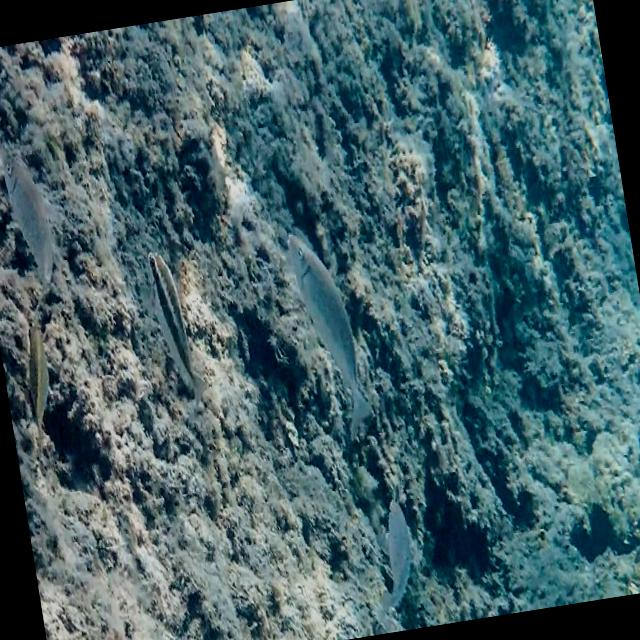Sokar Baligi: (268, 208, 384, 450), (354, 483, 430, 635)
